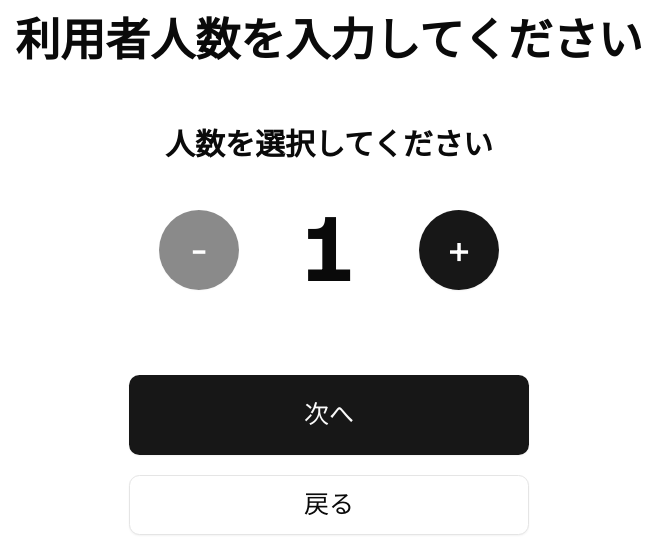
Test: CountSelectionPage › 人数を変更できる
Expected: the text "1" is shown, left=300, top=191, right=358, bottom=308
Click the button named "人数を1増やす": (459, 250) left=419, top=210, right=499, bottom=290
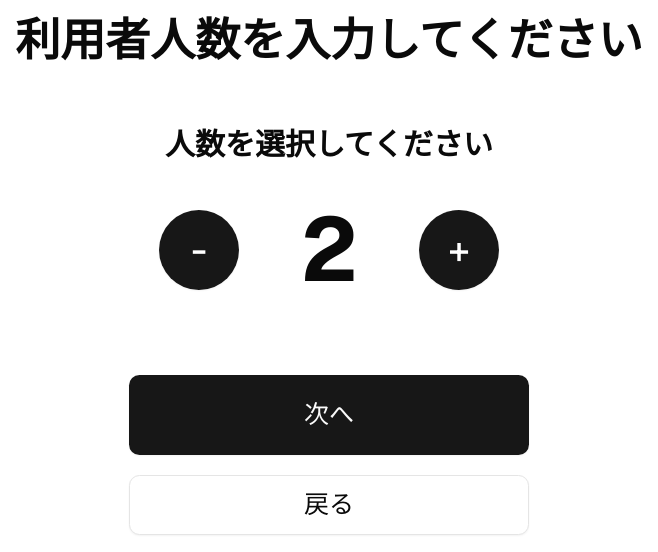
Expected: the text "2" is shown, left=300, top=191, right=358, bottom=308
Click the button named "人数を1減らす": (199, 250) left=159, top=210, right=239, bottom=290
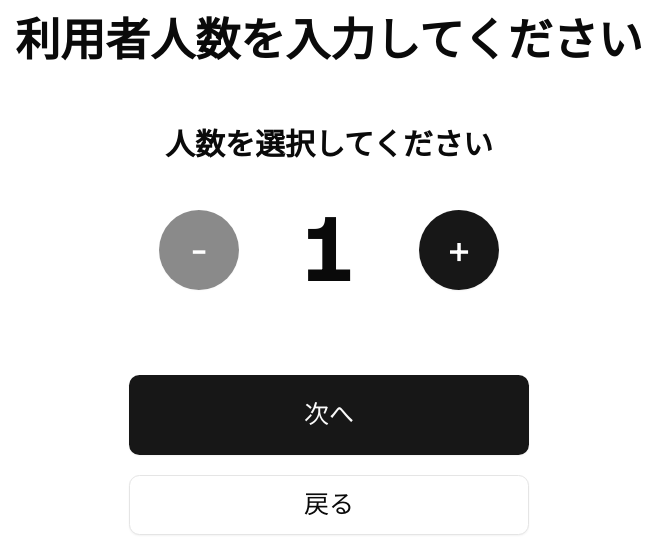
Result: the text "1" is shown at left=300, top=191, right=358, bottom=308
